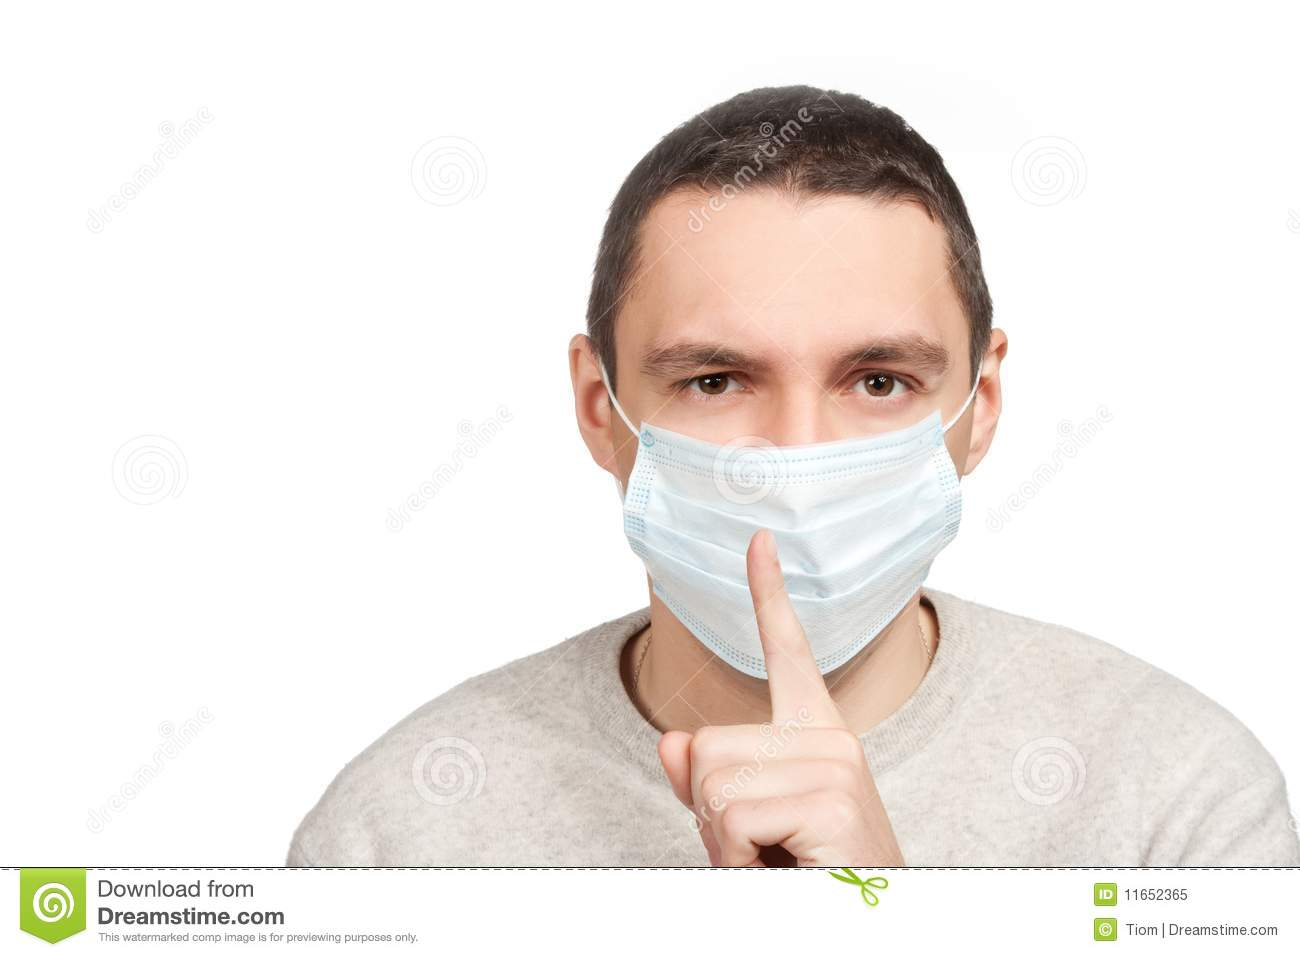mask: (622, 423, 964, 682)
